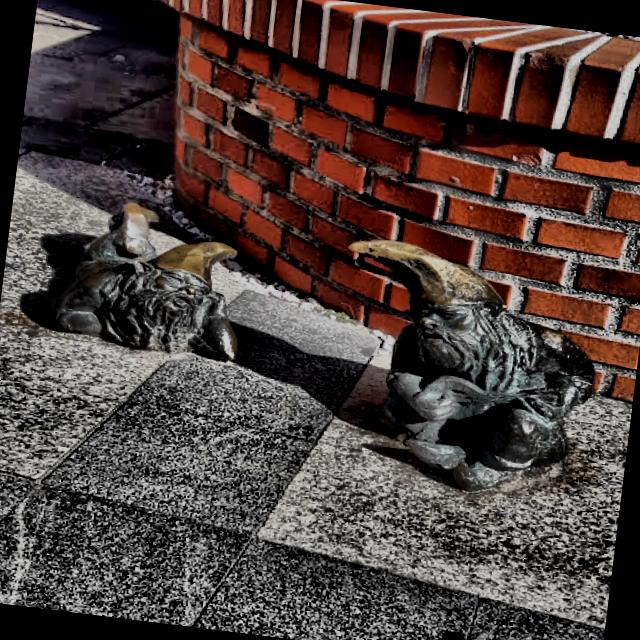Grajek_i_Meloman: (49, 203, 592, 490)
